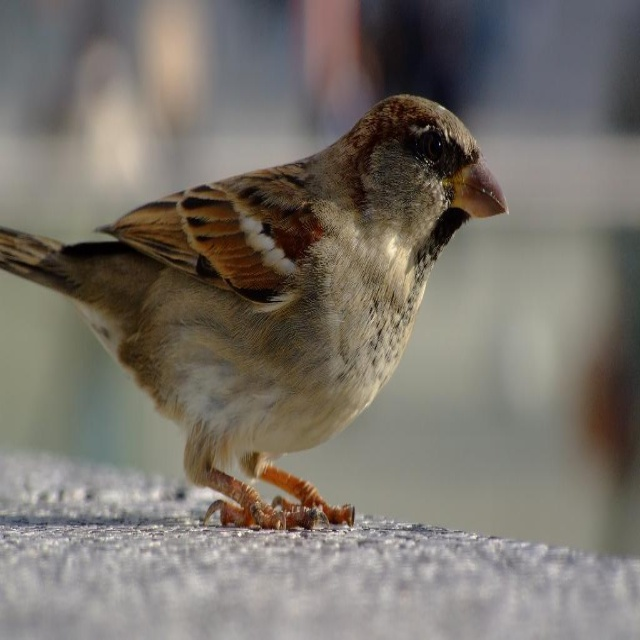Sparrow: (0, 92, 508, 531)
